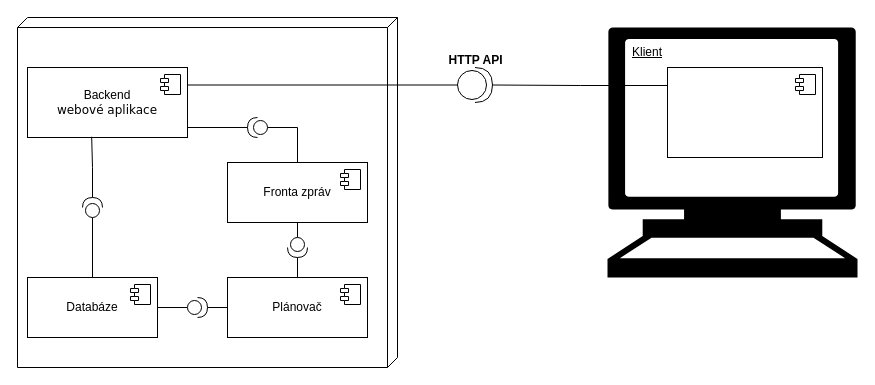
Image size: 875x385. Some labels were removed from this diagram. The shapes that lost their labels are listed below. From the top down, each one's box as (x1, y1, x2, y2) in pixels, then its label:
(666, 66, 822, 158): Frontend webové aplikace
(16, 16, 398, 368): Server
